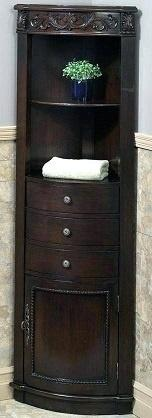cabinet_door: (20, 282, 118, 394), (26, 245, 118, 285), (27, 177, 119, 216), (26, 213, 118, 243)
handle: (60, 193, 74, 206), (59, 226, 73, 239), (60, 259, 73, 271), (21, 317, 26, 335)
